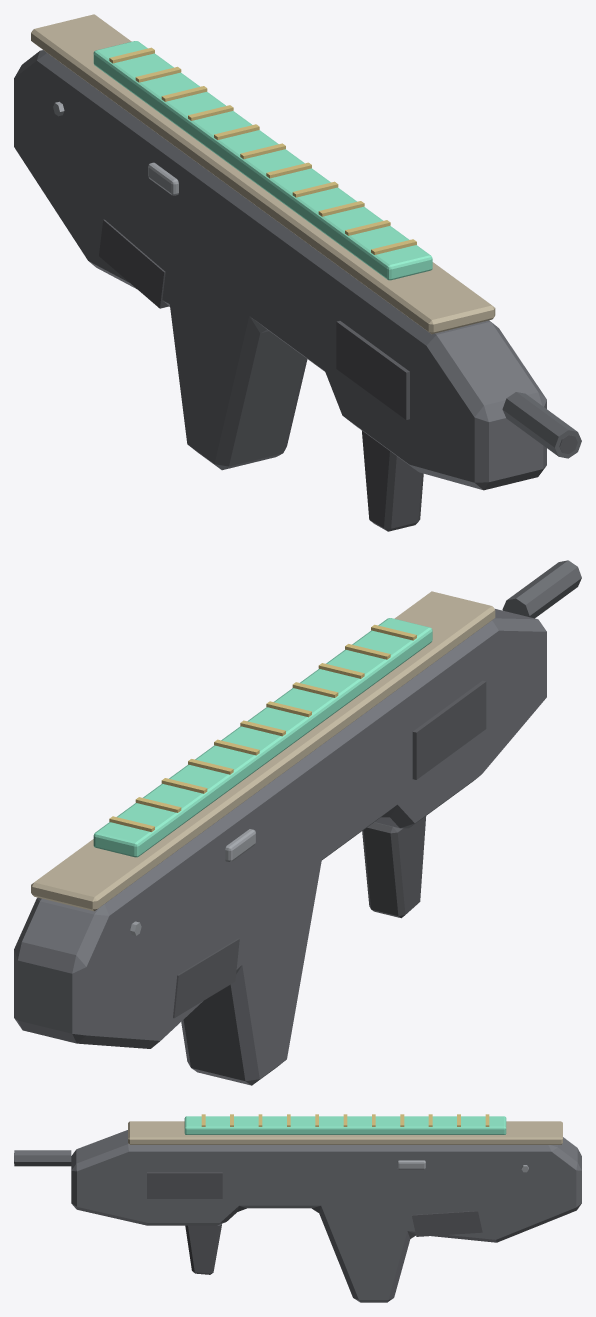
File: weapon_kestrel_pdw.fbx
The picture shows the model from 3 angles, top to bottom: view 1: azimuth 30°, elevation 25°; view 2: azimuth 150°, elevation 25°; view 3: azimuth 270°, elevation 25°; orthographic projection. The views are drawn at different scales.
Parts seen in each view (by area): view 1: weapon_kestrel_pdw, Mag.006; view 2: weapon_kestrel_pdw, Mag.006; view 3: weapon_kestrel_pdw, Mag.006.
Boxes of the visible parts, x1,y1,x2,y2 form: weapon_kestrel_pdw: (14, 14, 581, 531); Mag.006: (93, 41, 432, 280); weapon_kestrel_pdw: (14, 560, 581, 1085); Mag.006: (93, 618, 432, 857); weapon_kestrel_pdw: (14, 1121, 581, 1302); Mag.006: (184, 1114, 506, 1134).
Bounding box in the file's own units: 0.056 × 0.205 × 0.6005.
